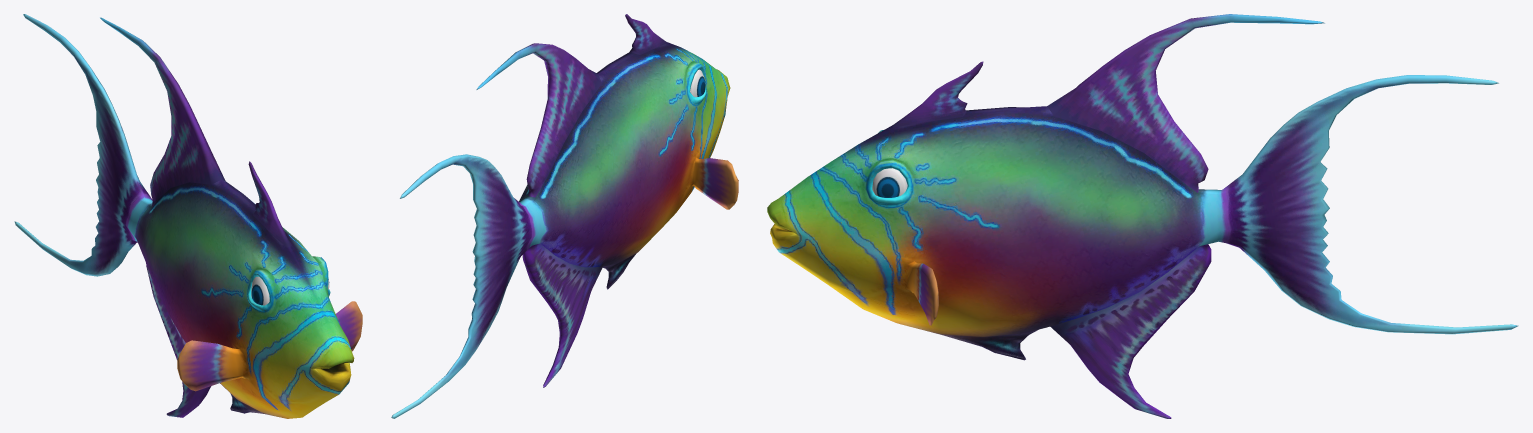
The model's file is fish_2.fbx.
3 renders of one model, left to right at view 1: azimuth 30°, elevation 25°; view 2: azimuth 150°, elevation 25°; view 3: azimuth 270°, elevation 25°, orthographic. The views are drawn at different scales.
Parts seen in each view (by area): view 1: node_id61, node_id63; view 2: node_id61, node_id63; view 3: node_id61, node_id65.
Part boxes in pixels (bbox=[...]): node_id61: bbox=[14, 14, 362, 418]; node_id63: bbox=[251, 276, 269, 305]; node_id61: bbox=[391, 14, 738, 418]; node_id63: bbox=[690, 69, 705, 97]; node_id61: bbox=[767, 14, 1518, 418]; node_id65: bbox=[872, 168, 907, 197].
Size of the model in its own units: 0.1657 by 0.3044 by 0.512.
3 materials, 3 textured.
